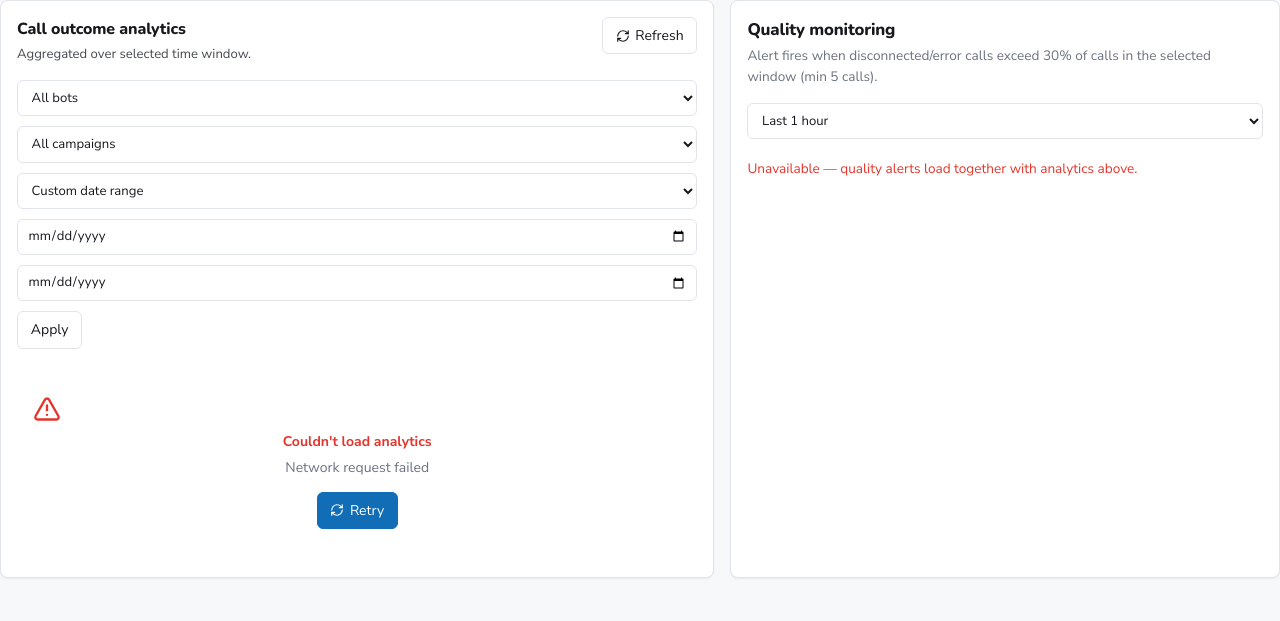
Scenario: AnalyticsView › shows an error state with a retry action when loading analytics fails
The width and height of the screenshot is (1280, 621).
Expected: the text "Couldn't load analytics" is shown, [283, 432, 432, 450]
Expected: the text "Network request failed" is shown, [285, 458, 429, 477]
Click the button "Retry": [357, 510] box [316, 492, 398, 529]
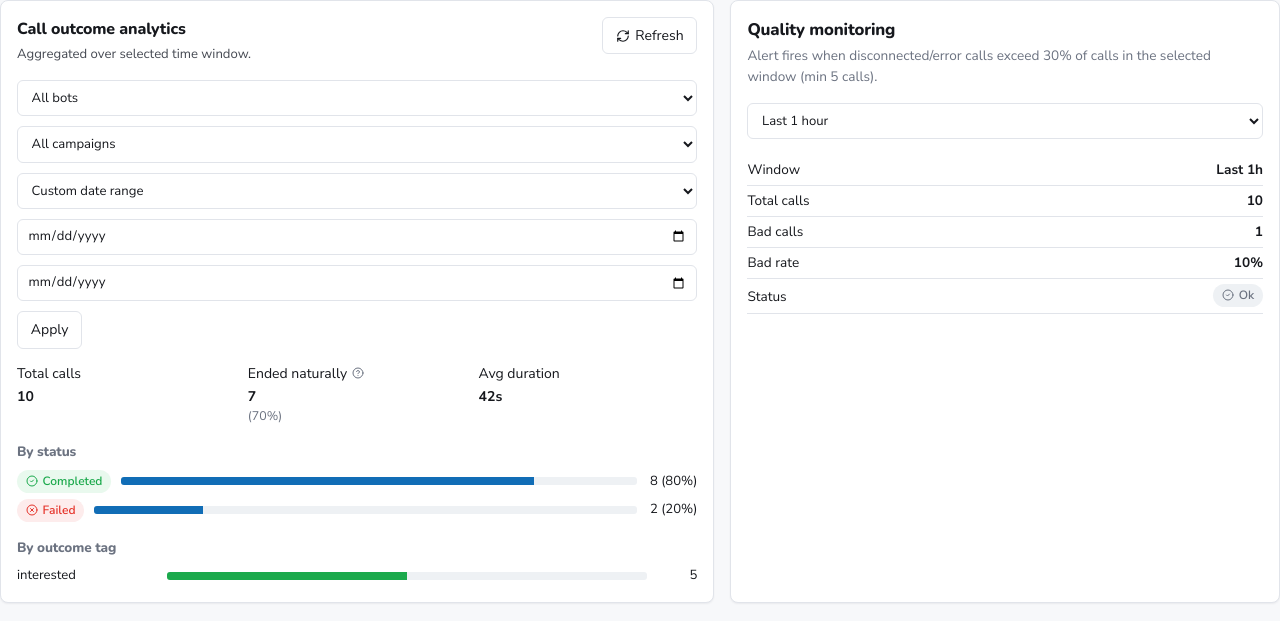
Result: the text "Couldn't load analytics" is gone
Result: the text "42s" is shown at [479, 387, 502, 406]
